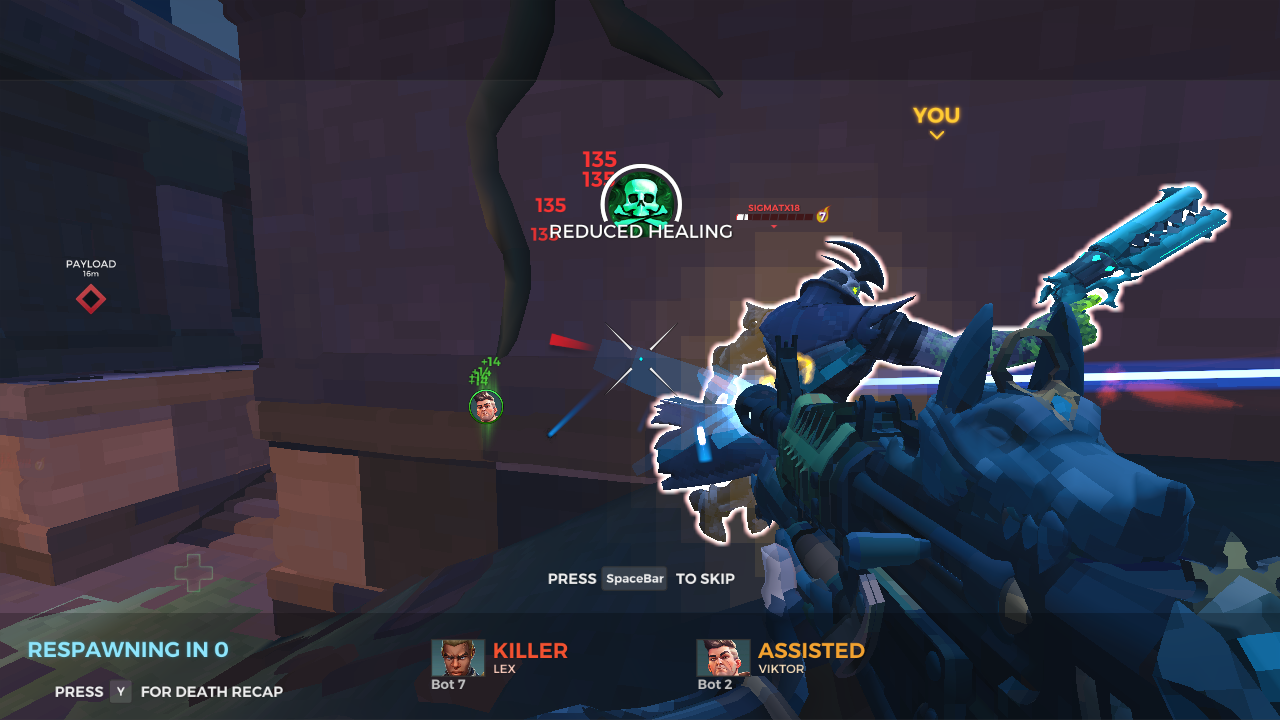model: (743, 243, 907, 384)
